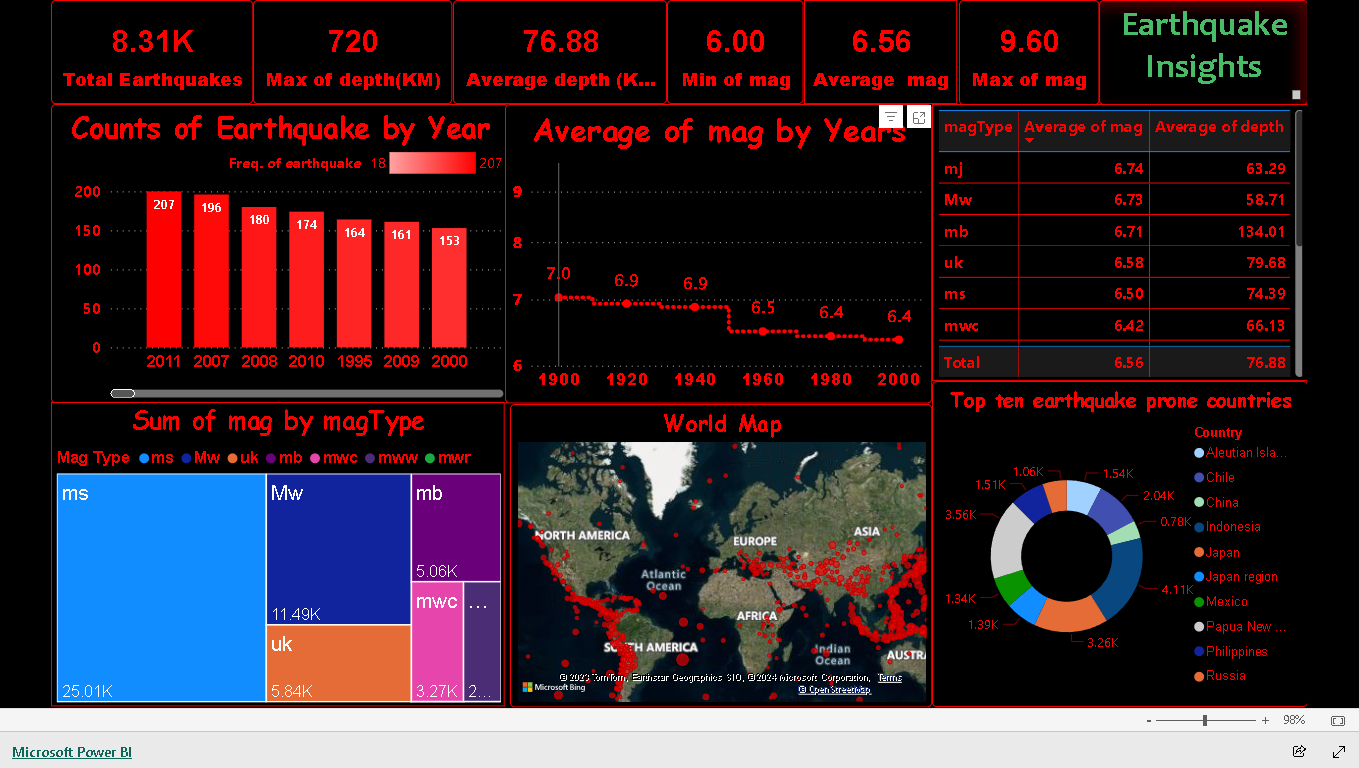

The page's visual inventory and layout, read from the dashboard file:
{"tool":"powerbi","page":{"name":"Page 1","canvas":[1280,720],"ordinal":0},"visuals":[{"type":"card","fields":{"Values":["CountNonNull(query.type)"]},"box":[0,0,206.1,106.1],"z":0},{"type":"card","fields":{"Values":["Avg(query.depth)"]},"box":[409.1,0,218.2,106.1],"z":1000},{"type":"columnChart","title":"Counts of Earthquake by Year","fields":{"Category":["query.Year"],"Y":["CountNonNull(query.type)"]},"box":[0,106.1,466.7,304.5],"z":2000},{"type":"treemap","fields":{"Group":["query.magType"],"Values":["Sum(query.mag)"]},"box":[0,409,462.2,309.6],"z":3000},{"type":"card","fields":{"Values":["Max(query.depth)"]},"box":[206.1,0,203,106.1],"z":4000},{"type":"card","fields":{"Values":["Max(query.mag)"]},"box":[924.5,0,142.6,106.6],"z":5000},{"type":"card","fields":{"Values":["Min(query.mag)"]},"box":[627.3,0,139.4,106.1],"z":6000},{"type":"card","fields":{"Values":["Avg(query.mag)"]},"box":[766.7,0,156.1,106.1],"z":7000},{"type":"lineChart","fields":{"Category":["query.Years"],"Y":["Avg(query.mag)"]},"box":[462.1,106.1,434.8,304.5],"z":8000},{"type":"tableEx","fields":{"Values":["query.magType","Avg(query.mag)","Avg(query.depth)"]},"box":[897,106.1,383.3,281.8],"z":9000},{"type":"donutChart","title":"Top ten earthquake prone countries","fields":{"Series":["query.Country"],"Y":["Sum(query.mag)"]},"box":[897,387.9,383.3,331.8],"z":10000},{"type":"map","title":"World Map","fields":{"Y":["Avg(query.latitude)"],"X":["Avg(query.longitude)"],"Size":["Sum(query.mag)"],"Category":["query.place"]},"box":[467,411,430,309],"z":11000},{"type":"textbox","title":"Earthquake Insights","box":[1067,0,213.1,106.6],"z":12000}]}

Visuals, with their boxes on the page's 1280x720 design canvas (x1, y1, x2, y2). These are canvas units, not pixel positions in the 1359x768 screenshot, which may show the page scaled, cropped or inside an application window:
card - CountNonNull(query.type): left=0, top=0, right=206, bottom=106
card - Avg(query.depth): left=409, top=0, right=627, bottom=106
"Counts of Earthquake by Year" columnChart: left=0, top=106, right=467, bottom=411
treemap - query.magType x Sum(query.mag): left=0, top=409, right=462, bottom=719
card - Max(query.depth): left=206, top=0, right=409, bottom=106
card - Max(query.mag): left=924, top=0, right=1067, bottom=107
card - Min(query.mag): left=627, top=0, right=767, bottom=106
card - Avg(query.mag): left=767, top=0, right=923, bottom=106
lineChart - query.Years x Avg(query.mag): left=462, top=106, right=897, bottom=411
tableEx - query.magType x Avg(query.mag): left=897, top=106, right=1280, bottom=388
"Top ten earthquake prone countries" donutChart: left=897, top=388, right=1280, bottom=720
"World Map" map: left=467, top=411, right=897, bottom=720
"Earthquake Insights" textbox: left=1067, top=0, right=1280, bottom=107
